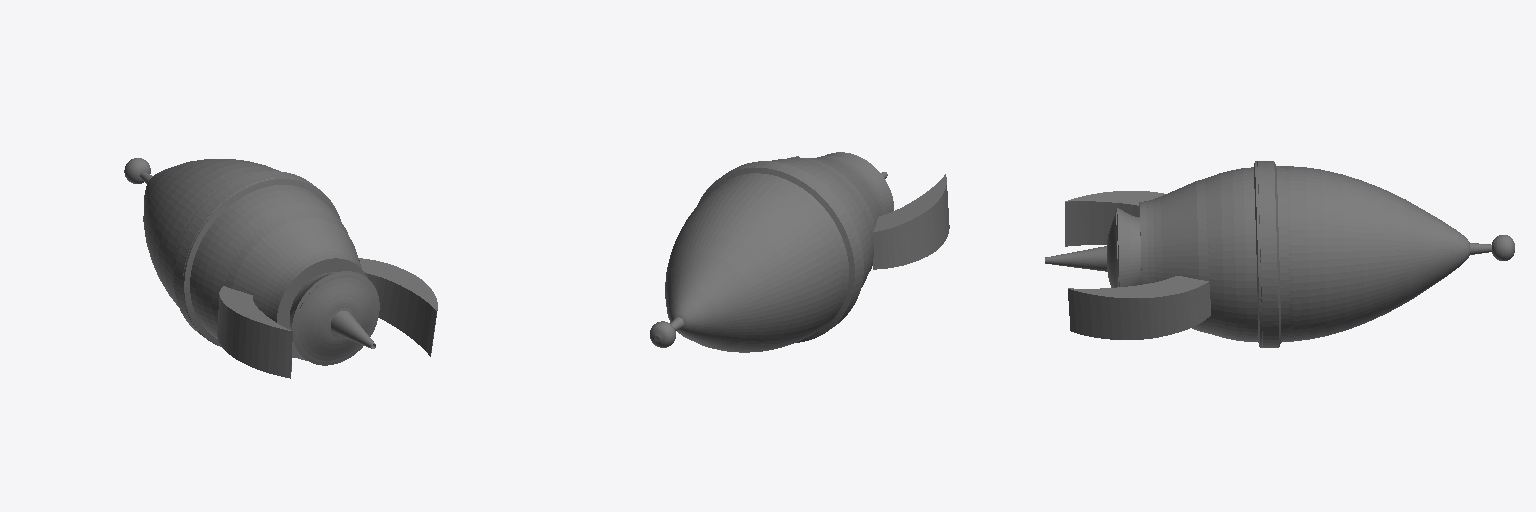
File: rocketShipBeta.obj
3 renders of one model, left to right at view 1: azimuth 30°, elevation 25°; view 2: azimuth 150°, elevation 25°; view 3: azimuth 270°, elevation 25°, orthographic.
Bounding box in the file's own units: 644 × 547 × 1370.